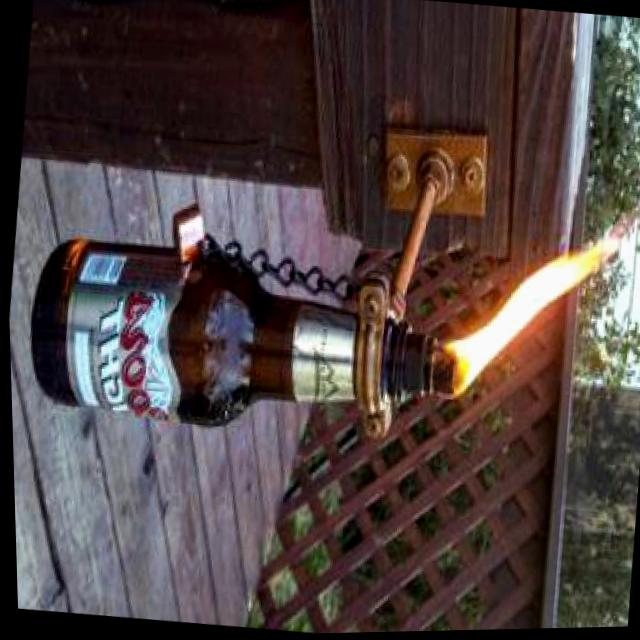Fire: (428, 206, 631, 428)
